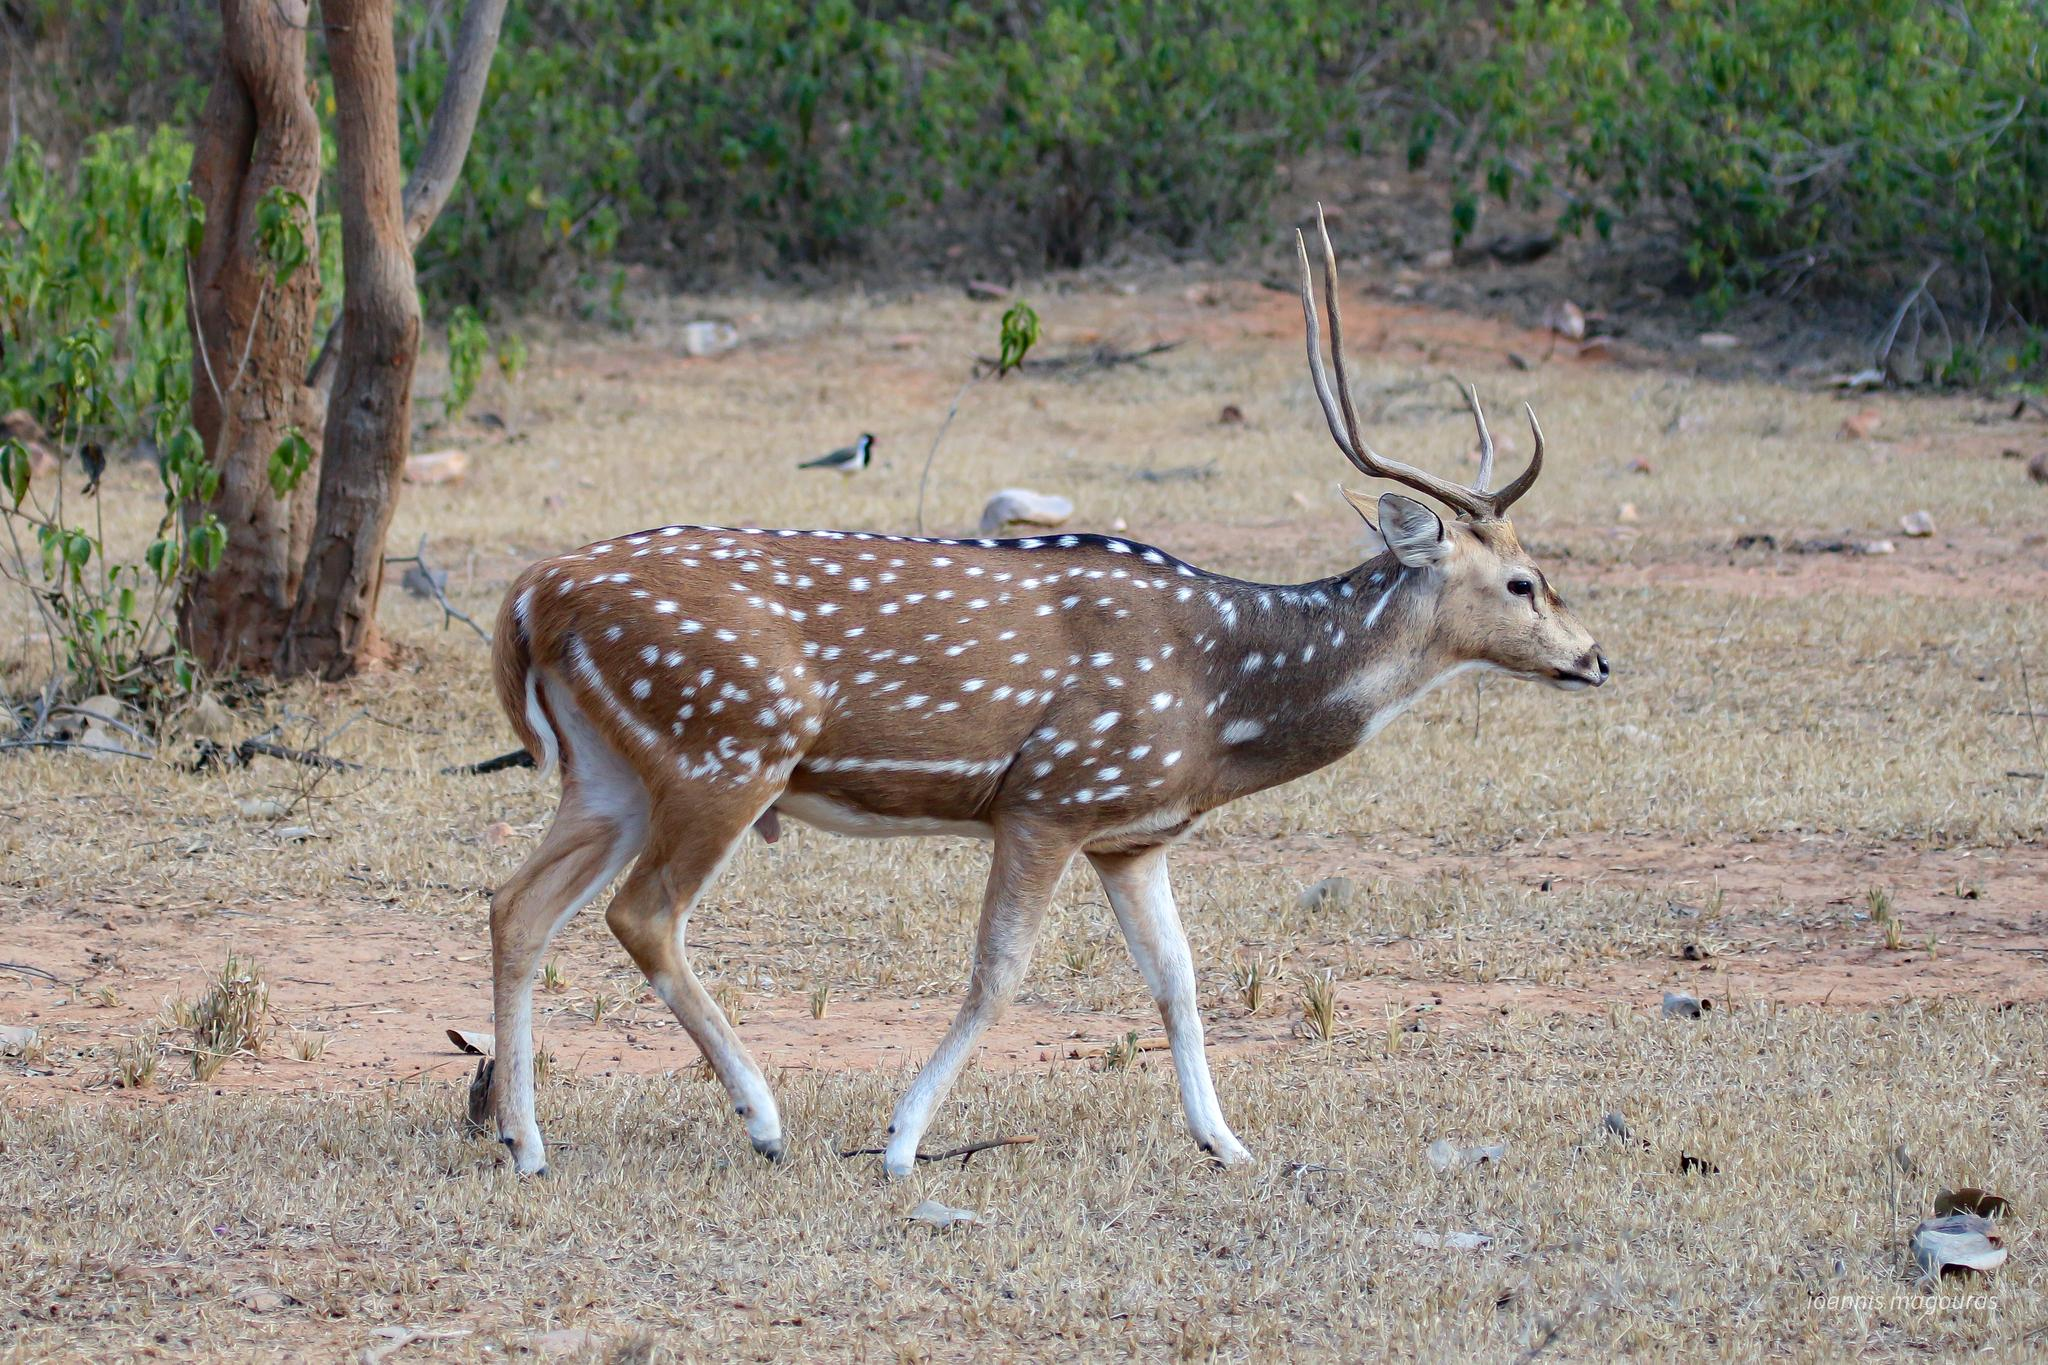Deer: (471, 215, 1608, 1175)
